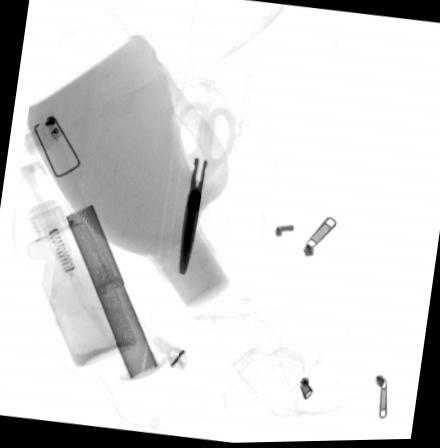Scissors: (171, 107, 236, 276)
